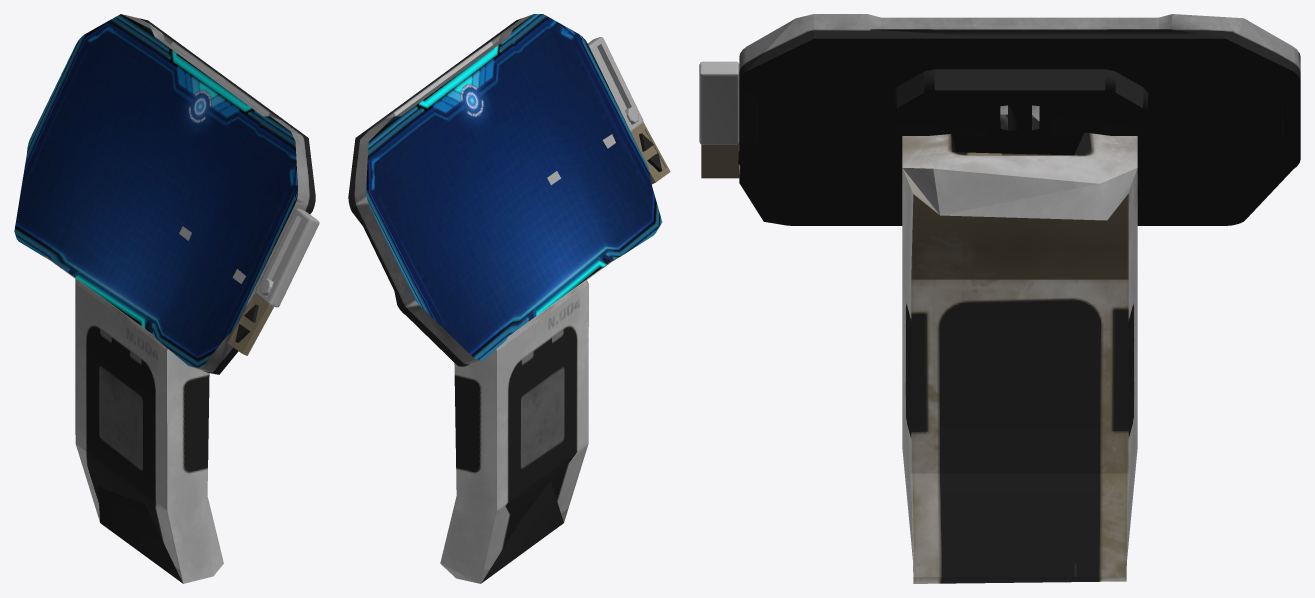
The model's file is screen1.fbx.
The picture shows the model from 3 angles, left to right: view 1: azimuth 30°, elevation 25°; view 2: azimuth 150°, elevation 25°; view 3: azimuth 270°, elevation 25°; orthographic projection. The views are drawn at different scales.
Parts seen in each view (by area): view 1: screen_low1, box (×2), circle; view 2: screen_low1, box (×2); view 3: screen_low1, box (×2).
Part boxes in pixels (left/top/right/bottom): screen_low1: left=14, top=14, right=315, bottom=583; box (×2): left=227, top=208, right=319, bottom=355; circle: left=179, top=226, right=273, bottom=295; screen_low1: left=348, top=14, right=662, bottom=583; box (×2): left=587, top=37, right=670, bottom=184; screen_low1: left=738, top=14, right=1300, bottom=583; box (×2): left=699, top=61, right=739, bottom=178.
Size of the model in its own units: 205 by 525 by 480.
3 materials, 2 textured.
